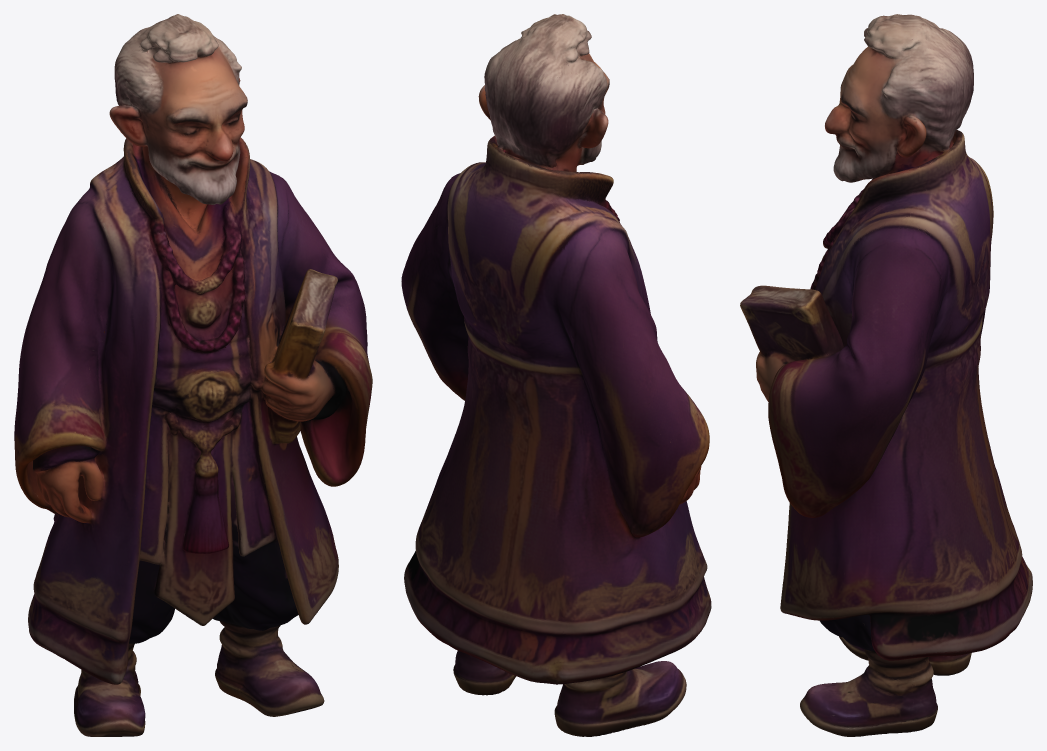
The model's file is psyche-monk.glb.
The picture shows the model from 3 angles, left to right: view 1: azimuth 30°, elevation 25°; view 2: azimuth 150°, elevation 25°; view 3: azimuth 270°, elevation 25°; orthographic projection.
Visible parts, largest first — view 1: geometry_0; view 2: geometry_0; view 3: geometry_0.
Boxes of the visible parts, x1=… form: geometry_0: x1=14, y1=14, x2=372, y2=736; geometry_0: x1=401, y1=14, x2=711, y2=736; geometry_0: x1=740, y1=14, x2=1032, y2=736.
Bounding box in the file's own units: 0.4867 × 1 × 0.395.
Materials: 1 (1 with a texture image).
